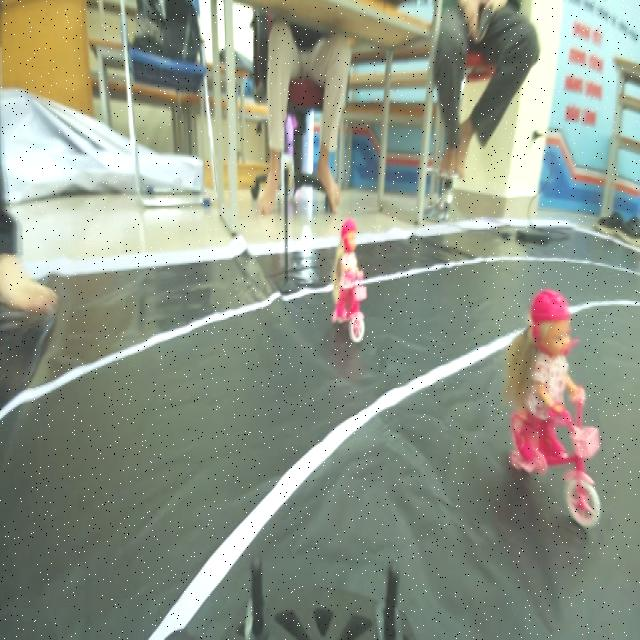pedestrian: (512, 277, 611, 545), (330, 227, 373, 342)
